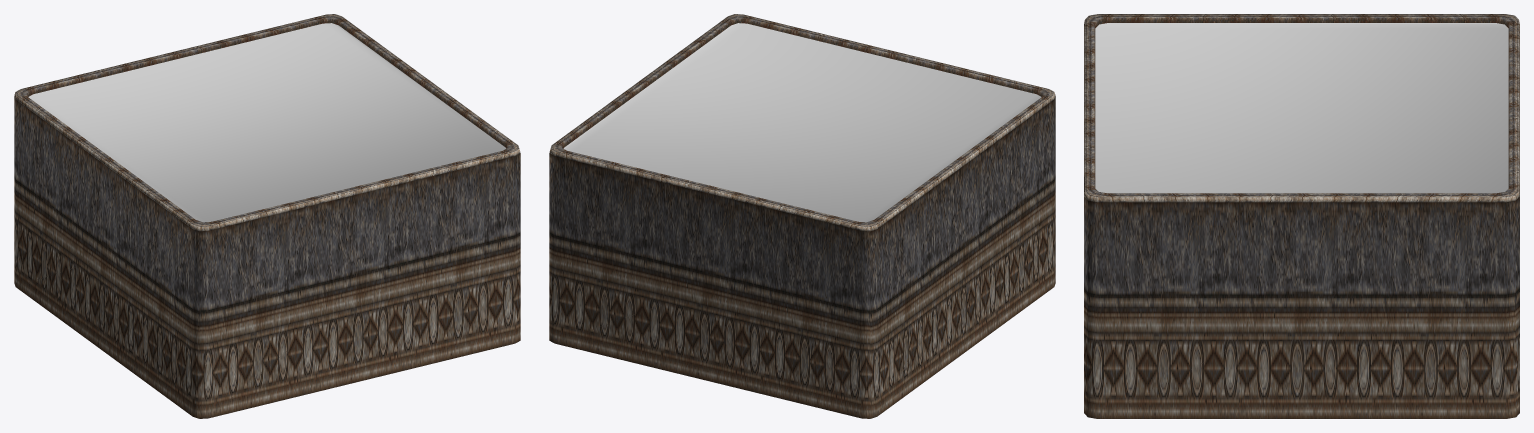
Rendered from prf_env_bld_BaseBuild_Small_xxx.fbx.
The picture shows the model from 3 angles, left to right: view 1: azimuth 30°, elevation 25°; view 2: azimuth 150°, elevation 25°; view 3: azimuth 270°, elevation 25°; orthographic projection. The views are drawn at different scales.
Visible parts, largest first — view 1: prf_env_bld_BaseBuild_Small_xxx; view 2: prf_env_bld_BaseBuild_Small_xxx; view 3: prf_env_bld_BaseBuild_Small_xxx.
Part boxes in pixels (box(x1,y1,x2,y2)): prf_env_bld_BaseBuild_Small_xxx: box(14, 14, 520, 418); prf_env_bld_BaseBuild_Small_xxx: box(549, 14, 1055, 418); prf_env_bld_BaseBuild_Small_xxx: box(1084, 14, 1519, 418).
Bounding box in the file's own units: 3.75 × 2.1 × 3.75.
